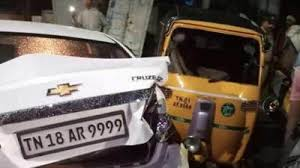T: (22, 135, 32, 153)
